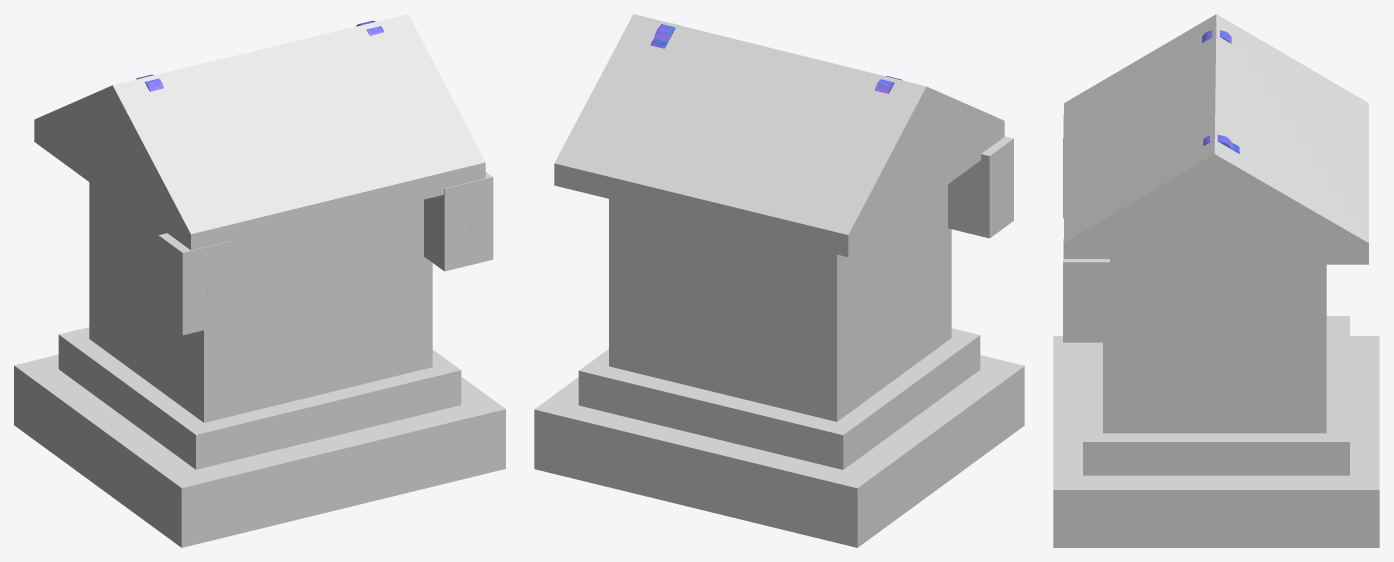
The model's file is Scene_Build_XuanWuShan_ShiTai_1.FBX.
3 renders of one model, left to right at view 1: azimuth 30°, elevation 25°; view 2: azimuth 150°, elevation 25°; view 3: azimuth 270°, elevation 25°, orthographic. The views are drawn at different scales.
Parts seen in each view (by area): view 1: Scene_Build_XuanWuShan_ShiTai_1_Xzm; view 2: Scene_Build_XuanWuShan_ShiTai_1_Xzm, Scene_Build_XuanWuShan_ShiTai_1a; view 3: Scene_Build_XuanWuShan_ShiTai_1_Xzm, Scene_Build_XuanWuShan_ShiTai_1a.
Boxes of the visible parts, bbox=[...] form: Scene_Build_XuanWuShan_ShiTai_1_Xzm: bbox=[14, 14, 505, 547]; Scene_Build_XuanWuShan_ShiTai_1_Xzm: bbox=[534, 14, 1024, 547]; Scene_Build_XuanWuShan_ShiTai_1a: bbox=[650, 24, 902, 93]; Scene_Build_XuanWuShan_ShiTai_1_Xzm: bbox=[1053, 14, 1379, 547]; Scene_Build_XuanWuShan_ShiTai_1a: bbox=[1202, 30, 1239, 153].
Bounding box in the file's own units: 444 × 521 × 398.
